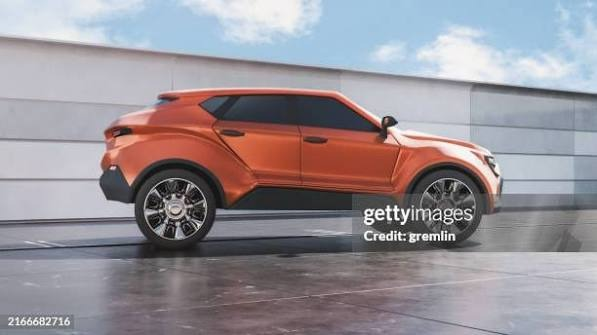car: (88, 90, 494, 247)
